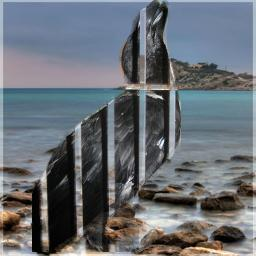Crow: (32, 0, 181, 252)
